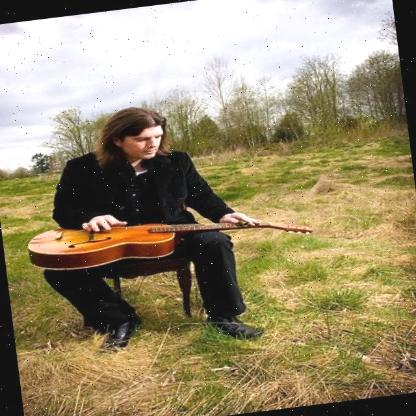acousticguitar: (27, 216, 309, 274)
